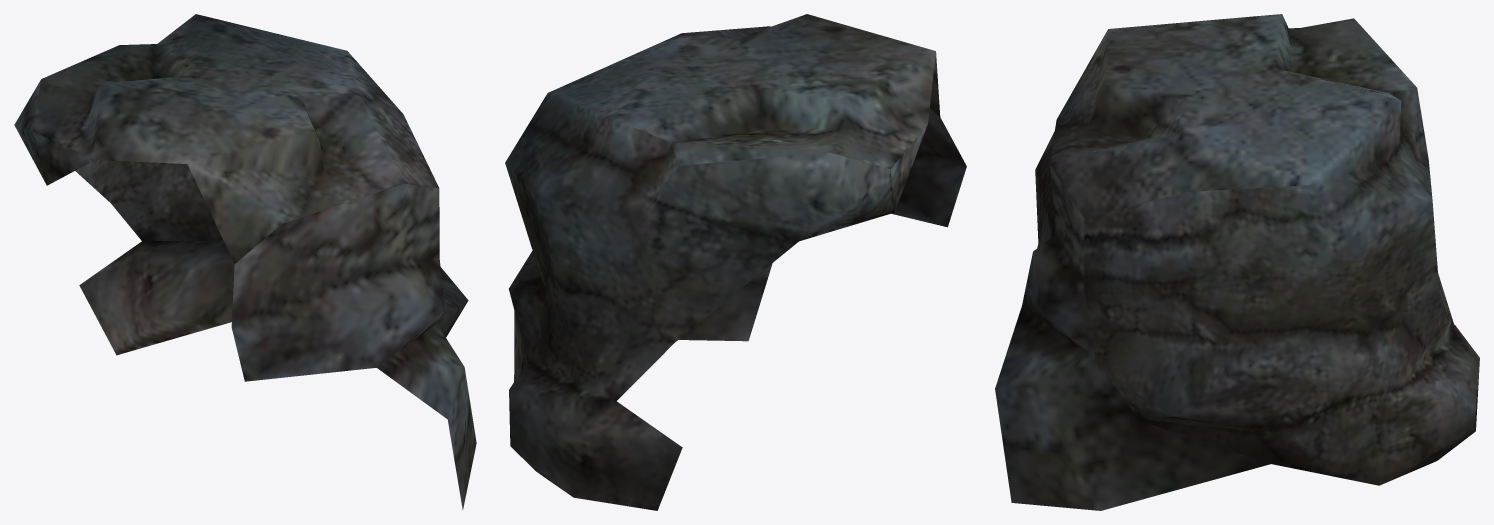
The model's file is S_Rock_Yellow034_H26.FBX.
3 views of the same model, side by side, from view 1: azimuth 30°, elevation 25°; view 2: azimuth 150°, elevation 25°; view 3: azimuth 270°, elevation 25° (orthographic). The views are drawn at different scales.
Parts seen in each view (by area): view 1: S_Rock_Yellow034_H26; view 2: S_Rock_Yellow034_H26; view 3: S_Rock_Yellow034_H26.
Part boxes in pixels (x1,y1,x2,y2): S_Rock_Yellow034_H26: (14, 14, 476, 510); S_Rock_Yellow034_H26: (505, 14, 966, 510); S_Rock_Yellow034_H26: (995, 14, 1479, 510).
Size of the model in its own units: 375 by 429 by 371.
Materials: 1 (1 with a texture image).
